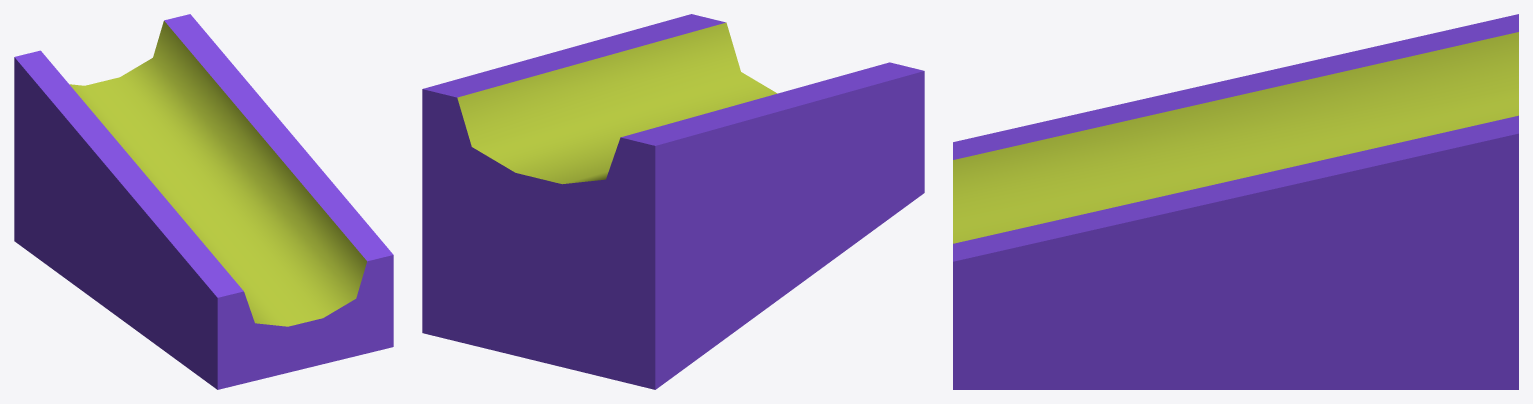
File: slant_solid_long_B-col.dae
3 views of the same model, side by side, from view 1: azimuth 30°, elevation 25°; view 2: azimuth 150°, elevation 25°; view 3: azimuth 270°, elevation 25° (orthographic). The views are drawn at different scales.
Visible parts, largest first — view 1: slant_solid_long_B-col; view 2: slant_solid_long_B-col; view 3: slant_solid_long_B-col.
Part boxes in pixels (x1,y1,x2,y2): slant_solid_long_B-col: (14, 14, 393, 389); slant_solid_long_B-col: (422, 14, 924, 389); slant_solid_long_B-col: (953, 14, 1518, 389).
Size of the model in its own units: 1 by 2 by 1.
